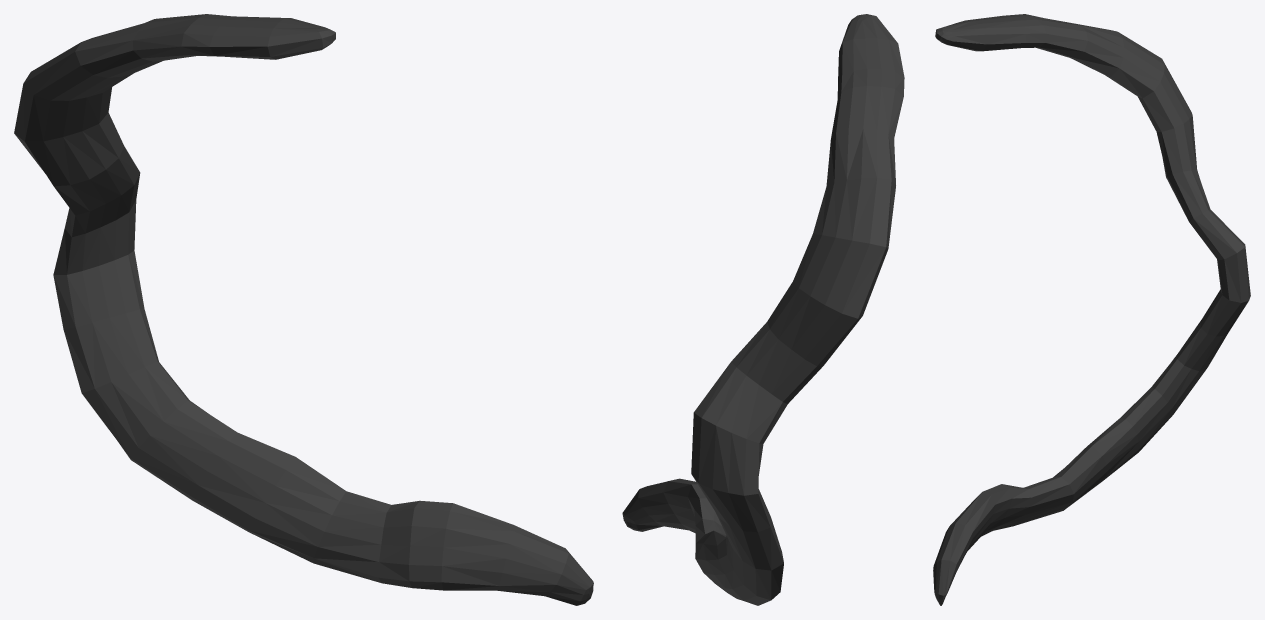
The model's file is pancreas_LP.glb.
3 views of the same model, side by side, from view 1: azimuth 30°, elevation 25°; view 2: azimuth 150°, elevation 25°; view 3: azimuth 270°, elevation 25° (orthographic). The views are drawn at different scales.
Parts seen in each view (by area): view 1: pancreas_LP; view 2: pancreas_LP; view 3: pancreas_LP.
Boxes of the visible parts, x1,y1,x2,y2 form: pancreas_LP: [14, 14, 593, 605]; pancreas_LP: [622, 14, 904, 605]; pancreas_LP: [933, 14, 1250, 605].
Bounding box in the file's own units: 1.5 × 2.11 × 1.26.
Materials: 1 (1 with a texture image).
